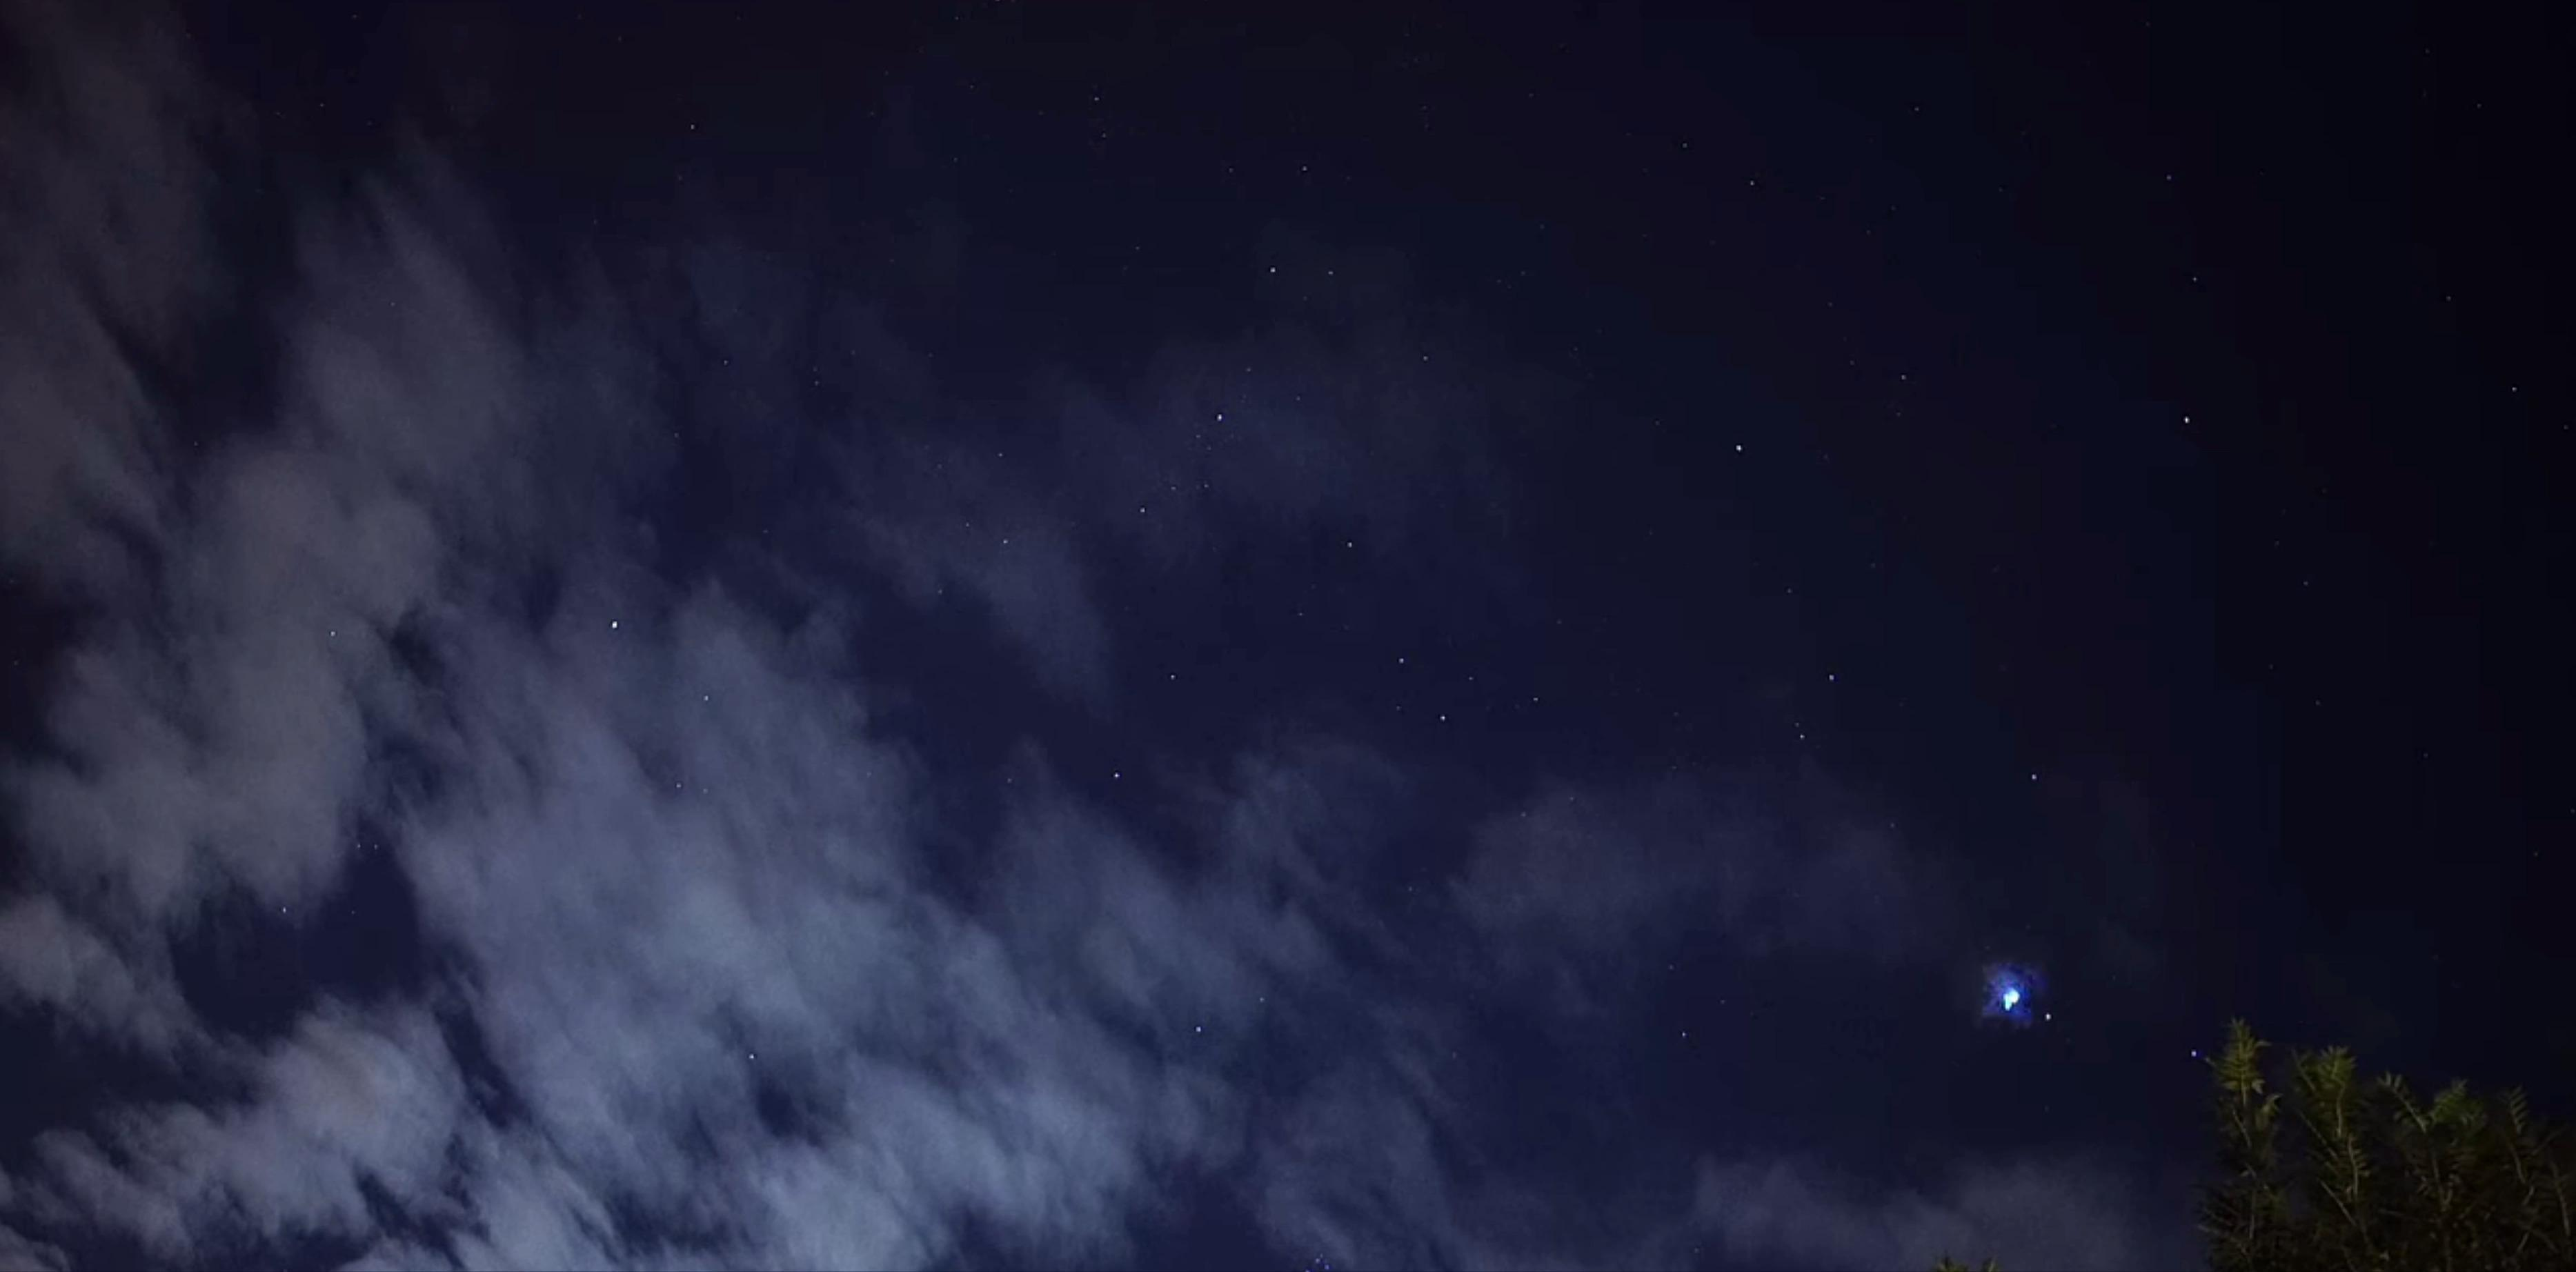Plane: (1966, 942, 2057, 1030)
